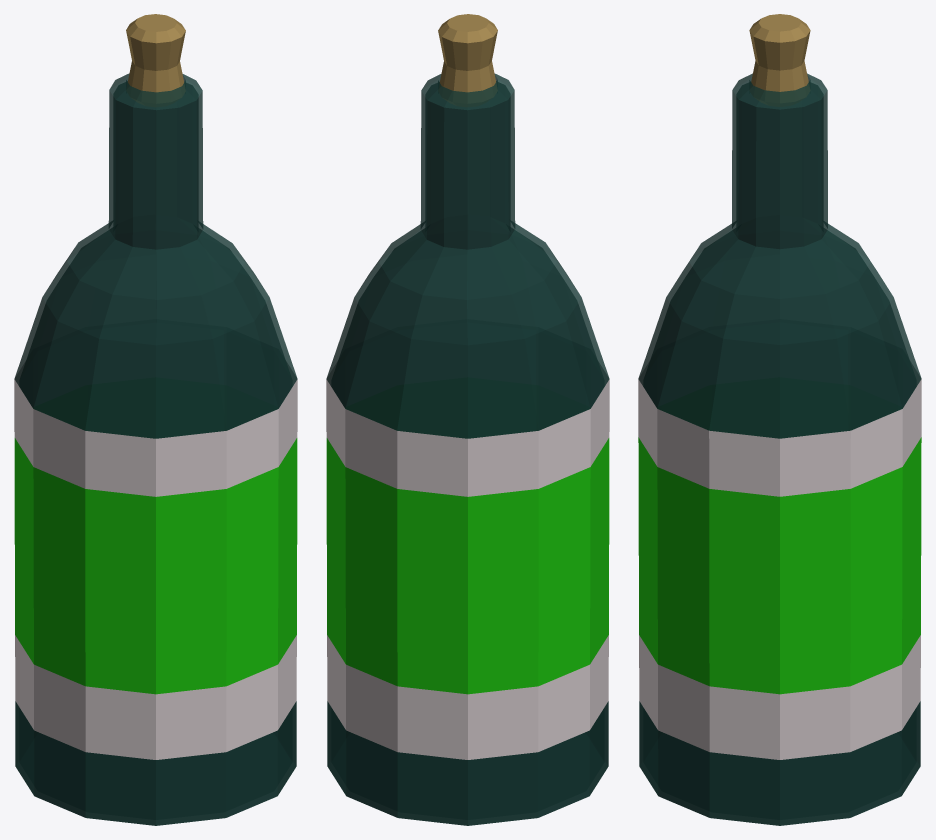
Rendered from Wine Bottle 4.fbx.
3 renders of one model, left to right at view 1: azimuth 30°, elevation 25°; view 2: azimuth 150°, elevation 25°; view 3: azimuth 270°, elevation 25°, orthographic.
Visible parts, largest first — view 1: Wine Bottle 4, Cork; view 2: Wine Bottle 4, Cork; view 3: Wine Bottle 4, Cork.
Boxes of the visible parts, bbox=[...] form: Wine Bottle 4: bbox=[14, 73, 297, 825]; Cork: bbox=[126, 14, 185, 106]; Wine Bottle 4: bbox=[326, 73, 609, 825]; Cork: bbox=[438, 14, 497, 106]; Wine Bottle 4: bbox=[638, 73, 921, 825]; Cork: bbox=[749, 14, 810, 106].
Bounding box in the file's own units: 161 × 467 × 161.
